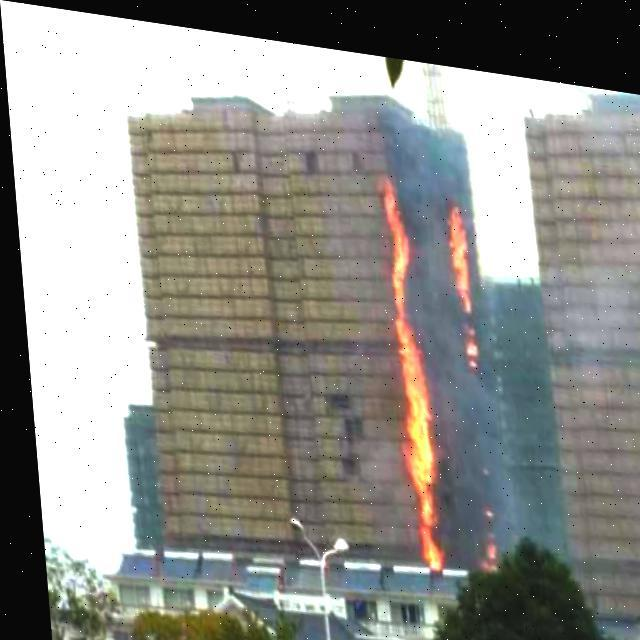Fire: (372, 162, 448, 582), (438, 188, 482, 359)
